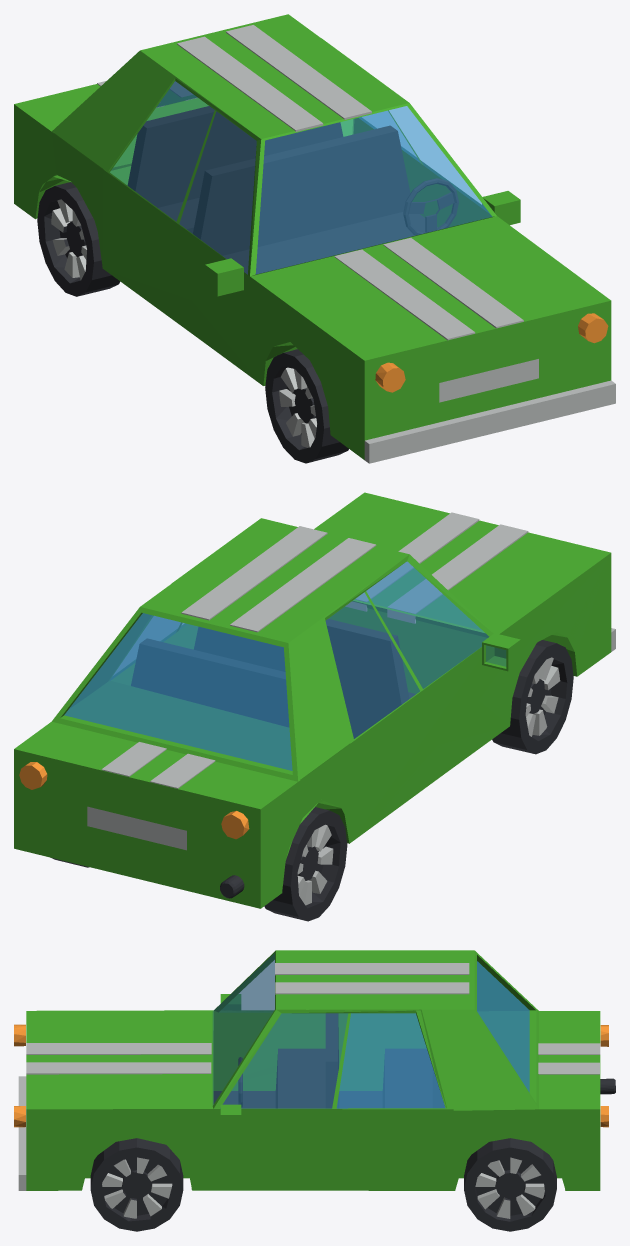
The model's file is voiture3.gltf.
3 renders of one model, top to bottom at view 1: azimuth 30°, elevation 25°; view 2: azimuth 150°, elevation 25°; view 3: azimuth 270°, elevation 25°, orthographic. The views are drawn at different scales.
Visible parts, largest first — view 1: carrosserie, parebrise, siege_avant, siege_arriere, fenetre_doite_avant, fenetre_droite_arrière, bas_de_caisse, roues_avant_droite, roue_arriere_droite, bande_toit_gauche, bande_toit_droite, bande_avant_gauche (+10 smaller); view 2: carrosserie, fenetre_arriere, bloc_arriere, siege_avant, siege_arriere, fenetre_doite_avant, fenetre_droite_arrière, roue_arriere_droite, roues_avant_droite, bloc_avant, bande_toit_droite, bande_toit_gauche (+10 smaller); view 3: carrosserie, fenetre _gauche _avant, fenetre _gauche _arrière, roues_avant_gauche, roue_arriere_gauche, parebrise, siege_avant, fenetre_arriere, siege_arriere, bande_toit_droite, bande_avant_droite, bande_toit_gauche (+8 smaller).
Part boxes in pixels (x1,y1,x2,y2): carrosserie: (14,14,611,459); parebrise: (256,106,491,274); siege_avant: (193,125,437,274); siege_arriere: (127,106,343,233); fenetre_doite_avant: (179,111,256,274); fenetre_droite_arrière: (110,81,214,221); bas_de_caisse: (364,380,615,463); roues_avant_droite: (265,349,348,463); roue_arriere_droite: (37,182,120,296); bande_toit_gauche: (177,36,323,131); bande_toit_droite: (226,25,371,119); bande_avant_gauche: (334,249,475,340); carrosserie: (14,492,611,908); fenetre_arriere: (64,613,292,770); bloc_arriere: (65,681,292,770); siege_avant: (194,619,415,738); siege_arriere: (131,638,288,727); fenetre_doite_avant: (366,562,488,688); fenetre_droite_arrière: (326,592,419,738); roue_arriere_droite: (264,807,347,921); roues_avant_droite: (492,640,573,754); bloc_avant: (328,601,488,693); bande_toit_droite: (181,526,327,620); bande_toit_gauche: (230,538,376,632); carrosserie: (26,950,600,1190); fenetre _gauche _avant: (223,1013,347,1108); fenetre _gauche _arrière: (337,1013,445,1108); roues_avant_gauche: (90,1138,183,1231); roue_arriere_gauche: (464,1138,556,1231); parebrise: (213,953,274,1104); siege_avant: (275,1013,338,1108); fenetre_arriere: (477,961,529,1092); siege_arriere: (383,1049,444,1107); bande_toit_droite: (275,982,469,994); bande_avant_droite: (26,1062,211,1074); bande_toit_gauche: (275,963,469,975).
Size of the model in its own units: 3.91 by 3.04 by 8.22.
Materials: 9 (9 with a texture image).
